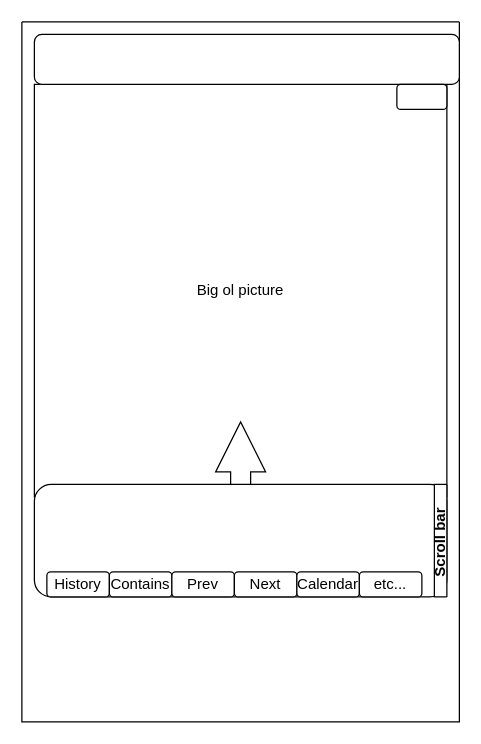
This 481x744 diagram has some shape labels left out. The shapes that lost their labels are listed below. From the top down, each one's box as (x1, y1, x2, y2) in pixels, then its label:
(33, 33, 459, 84): Header
(396, 83, 447, 109): Save
(33, 483, 447, 597): Text Information about the picture that scrolls.
